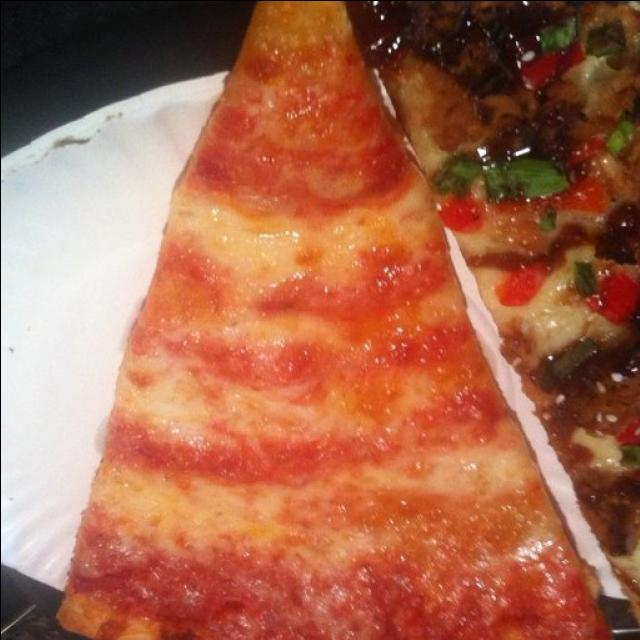pizza: (52, 0, 612, 639)
